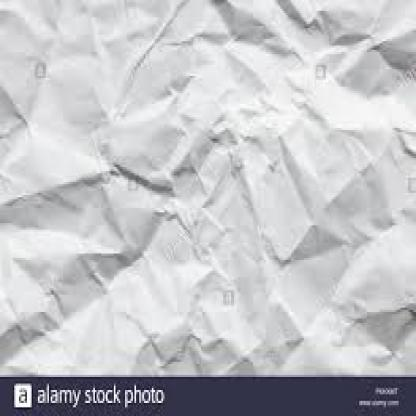paper: (0, 0, 415, 373)
